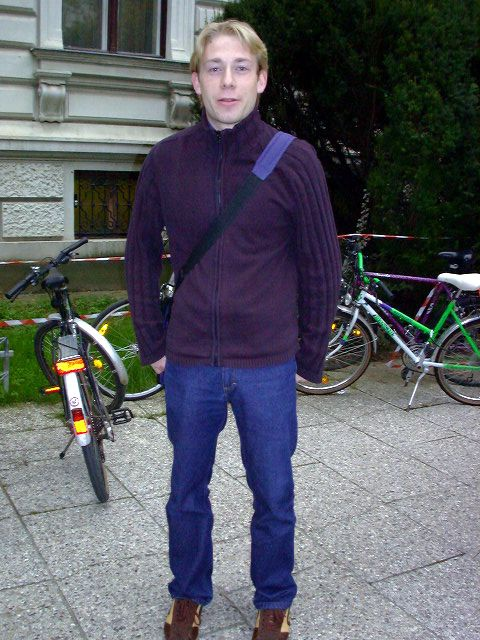person: (126, 19, 337, 636)
